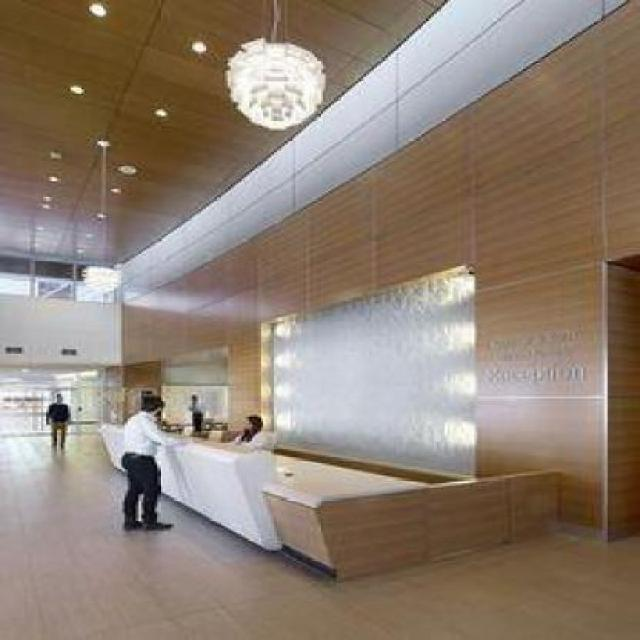frontdesk: (77, 406, 575, 589)
